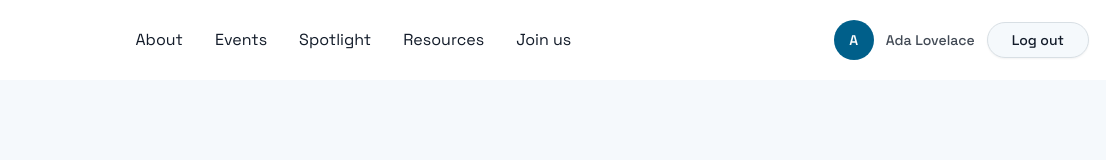
Test: Navbar session state › surfaces a resolved-error logout failure without navigating
Click the button "Log out". click: (1038, 40)
box: x1=987 y1=22 x2=1089 y2=58
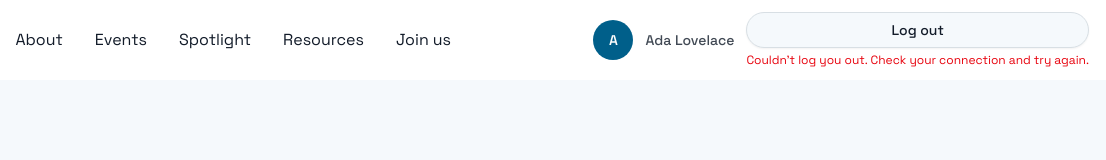
Now the message "Couldn't log you out. Check your connection and try again." is shown, box x1=746 y1=52 x2=1089 y2=68
